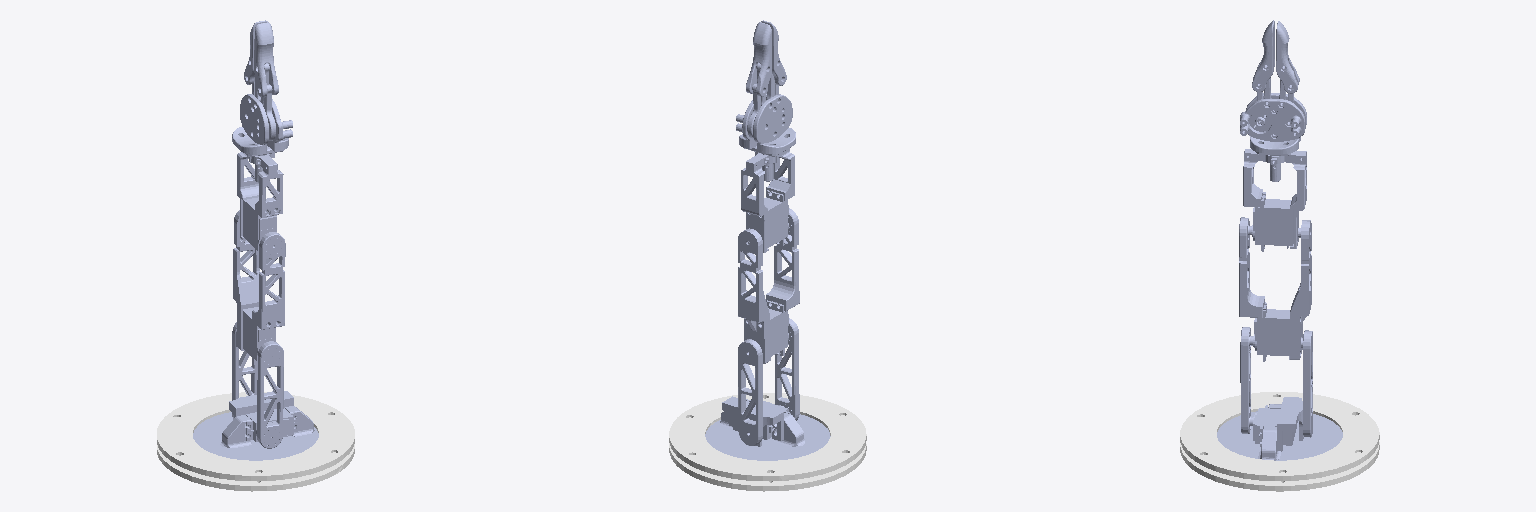
robot.urdf — arm_robot_urdf:
<?xml version="1.0" encoding="utf-8" ?>
<!-- This URDF was automatically created by SolidWorks to URDF Exporter! Originally created by [author] ([email redacted]) 
     Commit Version: 1.6.0-4-g7f85cfe  Build Version: 1.6.7995.38578
     For more information, please see http://wiki.ros.org/sw_urdf_exporter -->
<robot name="arm_robot_urdf">
    <link name="world" />
    <link name="base_link">
        <inertial>
            <origin xyz="-1.128E-12 -3.233E-13 0.0077451" rpy="0 0 0" />
            <mass value="0.24017" />
            <inertia ixx="0.00073468" ixy="-8.5578E-22" ixz="-1.4295E-21" iyy="0.00073468" iyz="-1.5381E-21" izz="0.001468" />
        </inertial>
        <visual>
            <origin xyz="0 0 0" rpy="0 0 0" />
            <geometry>
                <mesh filename="package://arm_robot_urdf/meshes/base_link.STL" />
            </geometry>
            <material name="">
                <color rgba="1 1 1 1" />
            </material>
        </visual>
        <collision>
            <origin xyz="0 0 0" rpy="0 0 0" />
            <geometry>
                <mesh filename="package://arm_robot_urdf/meshes/base_link.STL" />
            </geometry>
        </collision>
    </link>
    <joint name="base_joint" type="fixed">
        <parent link="world" />
        <child link="base_link" />
        <origin rpy="0 0 0" xyz="0.0 0.0 0.0" />
    </joint>
    <link name="link1">
        <inertial>
            <origin xyz="0.003677 0.029368 -0.00028766" rpy="0 0 0" />
            <mass value="0.15533" />
            <inertia ixx="0.00010723" ixy="2.0128E-06" ixz="8.6348E-07" iyy="0.00022328" iyz="-1.0358E-06" izz="0.0001271" />
        </inertial>
        <visual>
            <origin xyz="0 0 0" rpy="0 0 0" />
            <geometry>
                <mesh filename="package://arm_robot_urdf/meshes/link1.STL" />
            </geometry>
            <material name="">
                <color rgba="0.79216 0.81961 0.93333 1" />
            </material>
        </visual>
        <collision>
            <origin xyz="0 0 0" rpy="0 0 0" />
            <geometry>
                <mesh filename="package://arm_robot_urdf/meshes/link1.STL" />
            </geometry>
        </collision>
    </link>
    <joint name="joint1" type="revolute">
        <origin xyz="0 0 0.0468" rpy="-1.5708 0 -0.10442" />
        <parent link="base_link" />
        <child link="link1" />
        <axis xyz="0 -1 0" />
        <limit lower="0" upper="3.142" effort="3" velocity="3" />
    </joint>
    <link name="link2">
        <inertial>
            <origin xyz="0.0041007 0.043194 -0.00019892" rpy="0 0 0" />
            <mass value="0.028979" />
            <inertia ixx="3.1912E-05" ixy="3.2797E-09" ixz="3.0809E-10" iyy="1.9158E-06" iyz="1.3101E-07" izz="3.0272E-05" />
        </inertial>
        <visual>
            <origin xyz="0 0 0" rpy="0 0 0" />
            <geometry>
                <mesh filename="package://arm_robot_urdf/meshes/link2.STL" />
            </geometry>
            <material name="">
                <color rgba="0.79216 0.81961 0.93333 1" />
            </material>
        </visual>
        <collision>
            <origin xyz="0 0 0" rpy="0 0 0" />
            <geometry>
                <mesh filename="package://arm_robot_urdf/meshes/link2.STL" />
            </geometry>
        </collision>
    </link>
    <joint name="joint2" type="revolute">
        <origin xyz="0.00043961 0.0181 0" rpy="3.137 1.5708 0" />
        <parent link="link1" />
        <child link="link2" />
        <axis xyz="-1 0 0" />
        <limit lower="-1.57" upper="1.57" effort="3" velocity="3" />
    </joint>
    <link name="link3">
        <inertial>
            <origin xyz="0.038871 -1.5809E-05 -0.0022726" rpy="0 0 0" />
            <mass value="0.077534" />
            <inertia ixx="8.8194E-06" ixy="6.3213E-08" ixz="-1.5665E-06" iyy="6.4964E-05" iyz="-4.958E-10" izz="6.3402E-05" />
        </inertial>
        <visual>
            <origin xyz="0 0 0" rpy="0 0 0" />
            <geometry>
                <mesh filename="package://arm_robot_urdf/meshes/link3.STL" />
            </geometry>
            <material name="">
                <color rgba="0.79216 0.81961 0.93333 1" />
            </material>
        </visual>
        <collision>
            <origin xyz="0 0 0" rpy="0 0 0" />
            <geometry>
                <mesh filename="package://arm_robot_urdf/meshes/link3.STL" />
            </geometry>
        </collision>
    </link>
    <joint name="joint3" type="revolute">
        <origin xyz="0 0.086389 -0.00039698" rpy="-1.5708 0.0045952 1.5708" />
        <parent link="link2" />
        <child link="link3" />
        <axis xyz="0 0 1" />
        <limit lower="-1.57" upper="1.57" effort="3" velocity="3" />
    </joint>
    <link name="link4">
        <inertial>
            <origin xyz="0.02728 -1.3306E-05 -0.0036998" rpy="0 0 0" />
            <mass value="0.056033" />
            <inertia ixx="1.8571E-05" ixy="4.7541E-08" ixz="3.1144E-06" iyy="3.6056E-05" iyz="-1.7358E-09" izz="2.1544E-05" />
        </inertial>
        <visual>
            <origin xyz="0 0 0" rpy="0 0 0" />
            <geometry>
                <mesh filename="package://arm_robot_urdf/meshes/link4.STL" />
            </geometry>
            <material name="">
                <color rgba="0.79216 0.81961 0.93333 1" />
            </material>
        </visual>
        <collision>
            <origin xyz="0 0 0" rpy="0 0 0" />
            <geometry>
                <mesh filename="package://arm_robot_urdf/meshes/link4.STL" />
            </geometry>
        </collision>
    </link>
    <joint name="joint4" type="revolute">
        <origin xyz="0.1181 0 0" rpy="0 0 0" />
        <parent link="link3" />
        <child link="link4" />
        <axis xyz="0 0 1" />
        <limit lower="-1.57" upper="1.57" effort="3" velocity="3" />
    </joint>
    <link name="link5">
        <inertial>
            <origin xyz="-0.00033241 0.012927 -0.0044067" rpy="0 0 0" />
            <mass value="0.040264" />
            <inertia ixx="8.8714E-06" ixy="8.1547E-08" ixz="8.026E-08" iyy="1.0538E-05" iyz="7.6427E-08" izz="1.617E-05" />
        </inertial>
        <visual>
            <origin xyz="0 0 0" rpy="0 0 0" />
            <geometry>
                <mesh filename="package://arm_robot_urdf/meshes/link5.STL" />
            </geometry>
            <material name="">
                <color rgba="0.79216 0.81961 0.93333 1" />
            </material>
        </visual>
        <collision>
            <origin xyz="0 0 0" rpy="0 0 0" />
            <geometry>
                <mesh filename="package://arm_robot_urdf/meshes/link5.STL" />
            </geometry>
        </collision>
    </link>
    <joint name="joint5" type="fixed">
        <origin xyz="0.095613 -0.0040353 -0.0040761" rpy="1.5708 1.5708 0" />
        <parent link="link4" />
        <child link="link5" />
        <axis xyz="0 0 0" />
    </joint>
    <link name="link6">
        <inertial>
            <origin xyz="0.027062 -0.0036577 0.039267" rpy="0 0 0" />
            <mass value="0.01684" />
            <inertia ixx="4.0582E-06" ixy="-6.236E-08" ixz="-2.0468E-06" iyy="5.368E-06" iyz="-1.0351E-07" izz="1.977E-06" />
        </inertial>
        <visual>
            <origin xyz="0 0 0" rpy="0 0 0" />
            <geometry>
                <mesh filename="package://arm_robot_urdf/meshes/link6.STL" />
            </geometry>
            <material name="">
                <color rgba="0.79216 0.81961 0.93333 1" />
            </material>
        </visual>
        <collision>
            <origin xyz="0 0 0" rpy="0 0 0" />
            <geometry>
                <mesh filename="package://arm_robot_urdf/meshes/link6.STL" />
            </geometry>
        </collision>
    </link>
    <joint name="joint6" type="revolute">
        <origin xyz="-0.014 0.02432 0" rpy="1.6012 0 2.4658" />
        <parent link="link5" />
        <child link="link6" />
        <axis xyz="0 1 0" />
        <limit lower="0" upper="1.57" effort="1" velocity="3" />
    </joint>
    <link name="link7">
        <inertial>
            <origin xyz="0.0071253 0.036593 -0.005022" rpy="0 0 0" />
            <mass value="0.02237" />
            <inertia ixx="6.1386E-06" ixy="-8.2979E-07" ixz="-7.643E-11" iyy="1.0994E-06" iyz="-5.1831E-10" izz="6.5465E-06" />
        </inertial>
        <visual>
            <origin xyz="0 0 0" rpy="0 0 0" />
            <geometry>
                <mesh filename="package://arm_robot_urdf/meshes/link7.STL" />
            </geometry>
            <material name="">
                <color rgba="0.79216 0.81961 0.93333 1" />
            </material>
        </visual>
        <collision>
            <origin xyz="0 0 0" rpy="0 0 0" />
            <geometry>
                <mesh filename="package://arm_robot_urdf/meshes/link7.STL" />
            </geometry>
        </collision>
    </link>
    <joint name="joint7" type="revolute">
        <origin xyz="0.014 0.02432 0" rpy="0 0 0.27301" />
        <parent link="link5" />
        <child link="link7" />
        <axis xyz="0 0 1" />
        <limit lower="-1.57" upper="0" effort="1" velocity="3" />
    </joint>
    <transmission name="base_link_trans">
        <type>transmission_interface/SimpleTransmission</type>
        <joint name="base_joint">
            <hardwareInterface>hardware_interface/PositionJointInterface</hardwareInterface>
        </joint>
        <actuator name="base_link_motor">
            <hardwareInterface>hardware_interface/PositionJointInterface</hardwareInterface>
            <mechanicalReduction>1</mechanicalReduction>
        </actuator>
    </transmission>
    <transmission name="link1_trans">
        <type>transmission_interface/SimpleTransmission</type>
        <joint name="joint1">
            <hardwareInterface>hardware_interface/PositionJointInterface</hardwareInterface>
        </joint>
        <actuator name="link1_motor">
            <hardwareInterface>hardware_interface/PositionJointInterface</hardwareInterface>
            <mechanicalReduction>1</mechanicalReduction>
        </actuator>
    </transmission>
    <transmission name="link2_trans">
        <type>transmission_interface/SimpleTransmission</type>
        <joint name="joint2">
            <hardwareInterface>hardware_interface/PositionJointInterface</hardwareInterface>
        </joint>
        <actuator name="link2_motor">
            <hardwareInterface>hardware_interface/PositionJointInterface</hardwareInterface>
            <mechanicalReduction>1</mechanicalReduction>
        </actuator>
    </transmission>
    <transmission name="link3_trans">
        <type>transmission_interface/SimpleTransmission</type>
        <joint name="joint3">
            <hardwareInterface>hardware_interface/PositionJointInterface</hardwareInterface>
        </joint>
        <actuator name="link3_motor">
            <hardwareInterface>hardware_interface/PositionJointInterface</hardwareInterface>
            <mechanicalReduction>1</mechanicalReduction>
        </actuator>
    </transmission>
    <transmission name="link4_trans">
        <type>transmission_interface/SimpleTransmission</type>
        <joint name="joint4">
            <hardwareInterface>hardware_interface/PositionJointInterface</hardwareInterface>
        </joint>
        <actuator name="link4_motor">
            <hardwareInterface>hardware_interface/PositionJointInterface</hardwareInterface>
            <mechanicalReduction>1</mechanicalReduction>
        </actuator>
    </transmission>
    <transmission name="link6_trans">
        <type>transmission_interface/SimpleTransmission</type>
        <joint name="joint6">
            <hardwareInterface>hardware_interface/PositionJointInterface</hardwareInterface>
        </joint>
        <actuator name="link6_motor">
            <hardwareInterface>hardware_interface/PositionJointInterface</hardwareInterface>
            <mechanicalReduction>1</mechanicalReduction>
        </actuator>
    </transmission>
    <transmission name="link7_trans">
        <type>transmission_interface/SimpleTransmission</type>
        <joint name="joint7">
            <hardwareInterface>hardware_interface/PositionJointInterface</hardwareInterface>
        </joint>
        <actuator name="link7_motor">
            <hardwareInterface>hardware_interface/PositionJointInterface</hardwareInterface>
            <mechanicalReduction>1</mechanicalReduction>
        </actuator>
    </transmission>
    <gazebo>
        <plugin name="control" filename="libgazebo_ros_control.so">
            <robotNamespace>/</robotNamespace>
        </plugin>
        <plugin name="gazebo_ros_control" filename="libgazebo_ros_control.so">
            <robotNamespace>/</robotNamespace>
        </plugin>
    </gazebo>
    <gazebo reference="link1">
        <selfCollide>true</selfCollide>
    </gazebo>
    <gazebo reference="link2">
        <selfCollide>true</selfCollide>
    </gazebo>
    <gazebo reference="link3">
        <selfCollide>true</selfCollide>
    </gazebo>
    <gazebo reference="link4">
        <selfCollide>true</selfCollide>
    </gazebo>
    <gazebo reference="link6">
        <selfCollide>true</selfCollide>
    </gazebo>
    <gazebo reference="link7">
        <selfCollide>true</selfCollide>
    </gazebo>
</robot>

--- Render facts (derived) ---
The picture shows the robot from 3 angles, left to right: view 1: azimuth 30°, elevation 25°; view 2: azimuth 150°, elevation 25°; view 3: azimuth 270°, elevation 25°; orthographic projection.
Model arm_robot_urdf with 9 links and 8 joints (6 revolute, 2 fixed), rooted at world, posed all joints at 0.
Visible links, largest first — view 1: base_link, link3, link1, link2, link4, link5, link7; view 2: base_link, link3, link1, link2, link4, link5, link6, link7; view 3: base_link, link1, link3, link4, link5, link2, link7, link6.
Boxes of the visible links, <box> form: base_link: <box>157,392,354,491</box>; link3: <box>233,210,285,364</box>; link1: <box>193,391,318,460</box>; link2: <box>232,322,283,448</box>; link4: <box>237,152,283,254</box>; link5: <box>232,94,292,182</box>; link7: <box>254,22,278,140</box>; base_link: <box>669,393,866,491</box>; link3: <box>738,208,799,363</box>; link1: <box>705,396,830,460</box>; link2: <box>738,318,799,445</box>; link4: <box>741,148,794,252</box>; link5: <box>736,94,795,181</box>; link6: <box>746,22,771,138</box>; link7: <box>761,20,786,99</box>; base_link: <box>1180,392,1379,491</box>; link1: <box>1217,397,1342,460</box>; link3: <box>1239,217,1311,361</box>; link4: <box>1243,149,1306,251</box>; link5: <box>1240,93,1306,181</box>; link2: <box>1240,327,1312,437</box>; link7: <box>1249,20,1274,131</box>; link6: <box>1276,21,1299,123</box>.
Size in the robot's own frame: 0.1929 by 0.1927 by 0.4576 metres.
8 mesh visuals loaded from 8 distinct referenced files (8 binary STL).